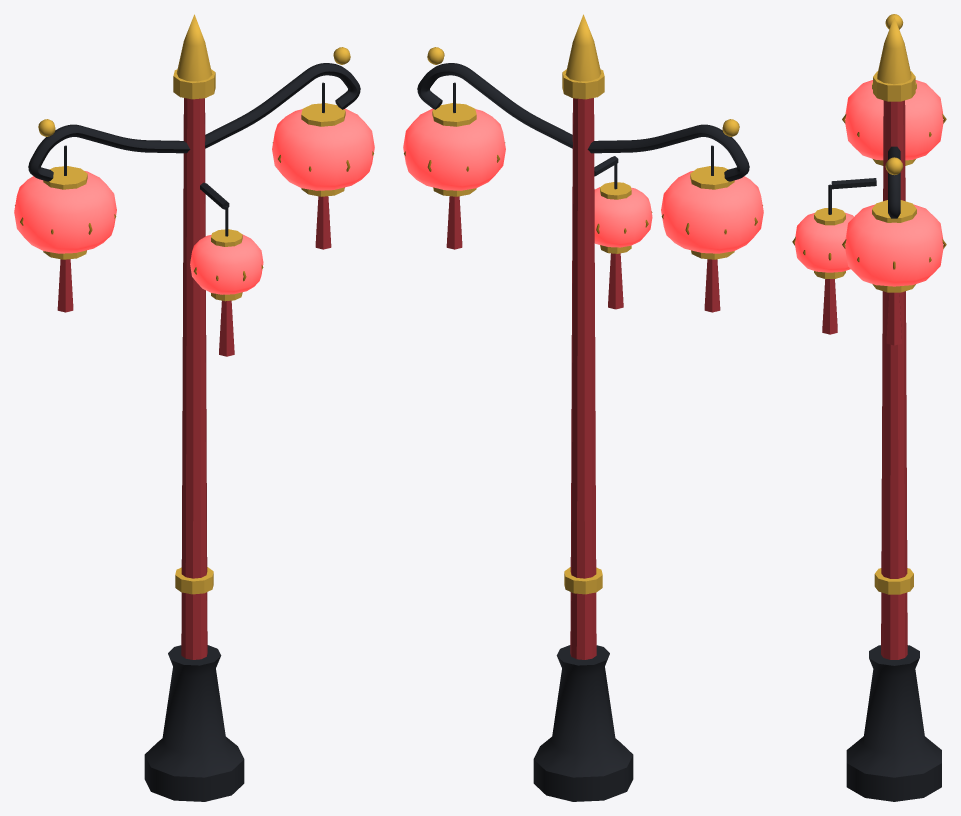
The model's file is poste_lanternas_chinesas.glb.
The picture shows the model from 3 angles, left to right: view 1: azimuth 30°, elevation 25°; view 2: azimuth 150°, elevation 25°; view 3: azimuth 270°, elevation 25°; orthographic projection.
Parts seen in each view (by area): view 1: poste_lanternas_chinesas, lanterna_2, lanterna_1, lanterna_3; view 2: poste_lanternas_chinesas, lanterna_2, lanterna_1, lanterna_3; view 3: poste_lanternas_chinesas, lanterna_2, lanterna_1, lanterna_3.
Boxes of the visible parts, x1=… form: poste_lanternas_chinesas: x1=28, y1=14, x2=360, y2=801; lanterna_2: x1=272, y1=82, x2=374, y2=249; lanterna_1: x1=14, y1=145, x2=116, y2=312; lanterna_3: x1=190, y1=206, x2=263, y2=356; poste_lanternas_chinesas: x1=417, y1=14, x2=749, y2=801; lanterna_2: x1=403, y1=82, x2=505, y2=249; lanterna_1: x1=661, y1=145, x2=763, y2=312; lanterna_3: x1=594, y1=164, x2=652, y2=309; poste_lanternas_chinesas: x1=831, y1=14, x2=941, y2=801; lanterna_2: x1=842, y1=200, x2=946, y2=345; lanterna_1: x1=842, y1=80, x2=946, y2=165; lanterna_3: x1=792, y1=184, x2=853, y2=334.
Size of the model in its own units: 2.25 by 4.72 by 0.8635.
2 materials, 1 textured.
